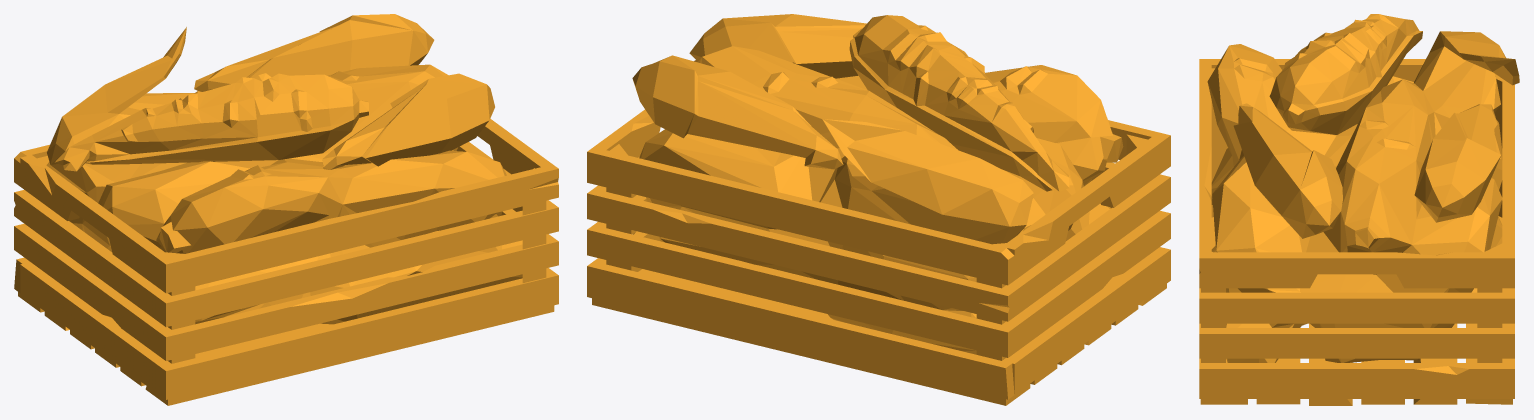
The model's file is SM_Crate_Wood_Medium_Corn_B.fbx.
3 renders of one model, left to right at view 1: azimuth 30°, elevation 25°; view 2: azimuth 150°, elevation 25°; view 3: azimuth 270°, elevation 25°, orthographic. The views are drawn at different scales.
Parts seen in each view (by area): view 1: crate-wood-medium-corn-b; view 2: crate-wood-medium-corn-b; view 3: crate-wood-medium-corn-b.
Part boxes in pixels (bbox=[...]): crate-wood-medium-corn-b: bbox=[14, 14, 558, 405]; crate-wood-medium-corn-b: bbox=[587, 14, 1170, 405]; crate-wood-medium-corn-b: bbox=[1199, 14, 1519, 405].
Bounding box in the file's own units: 0.6199 × 0.3591 × 0.4126.
